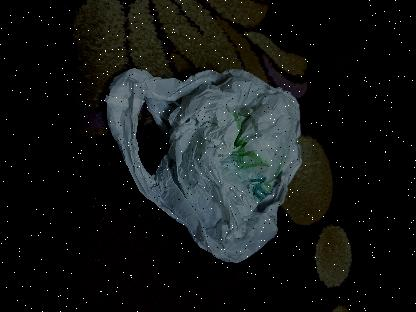Others: (100, 56, 302, 268)
